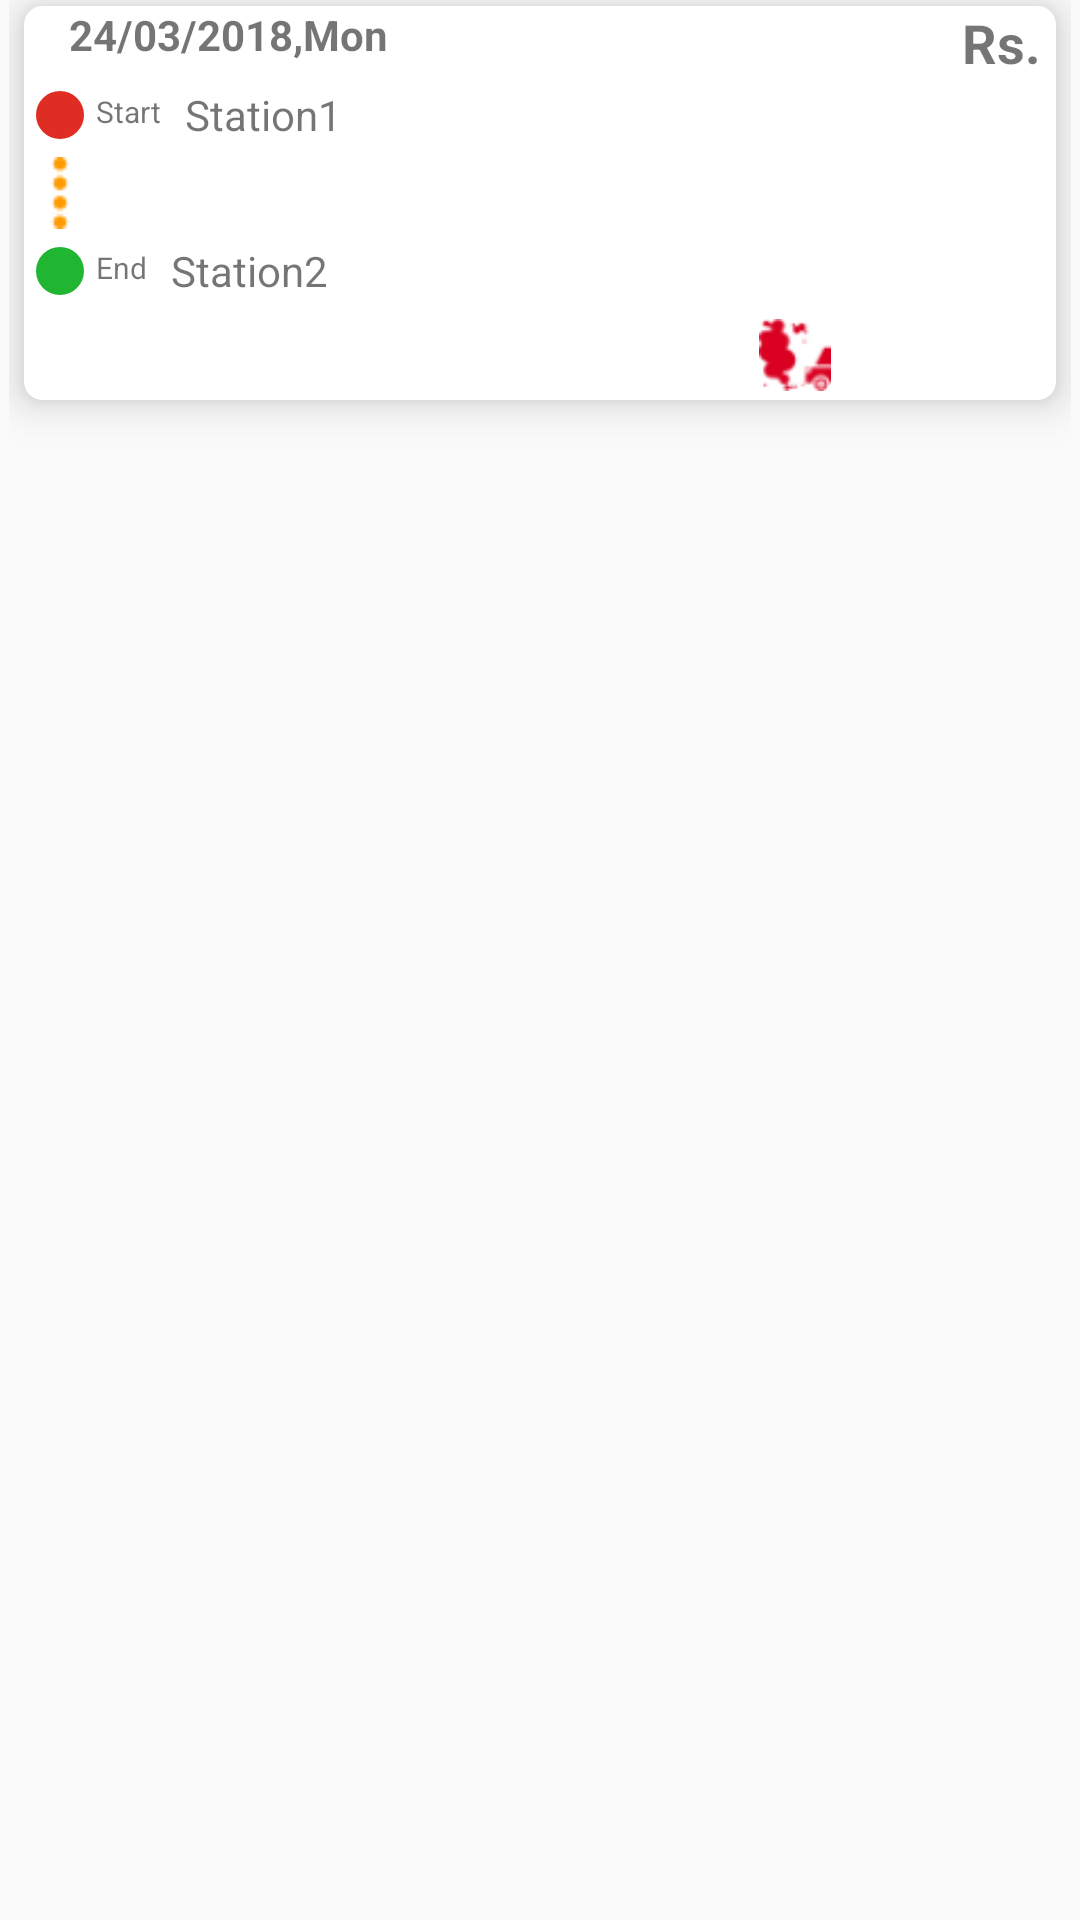

Screen size 1080 × 1920. Icon name, then its box in pixels as box=[x1, y1, x2, y2]:
fiber manual record: box=[36, 91, 84, 139], box=[36, 247, 84, 295]
